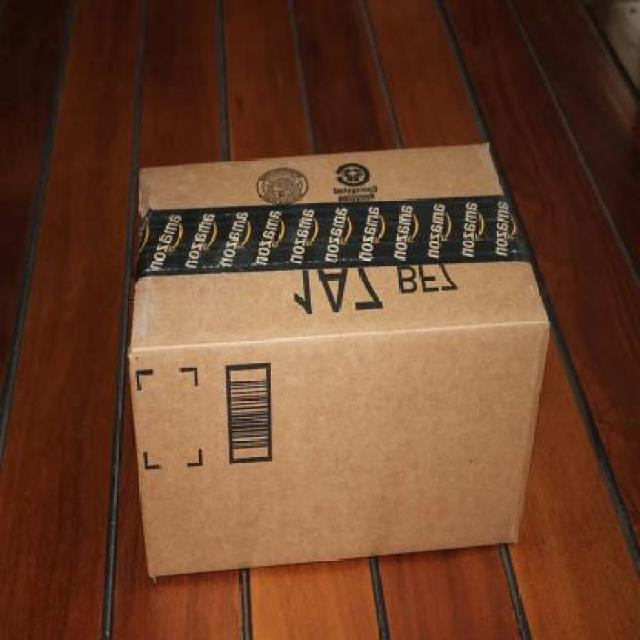cardboxes: (126, 140, 552, 581)
